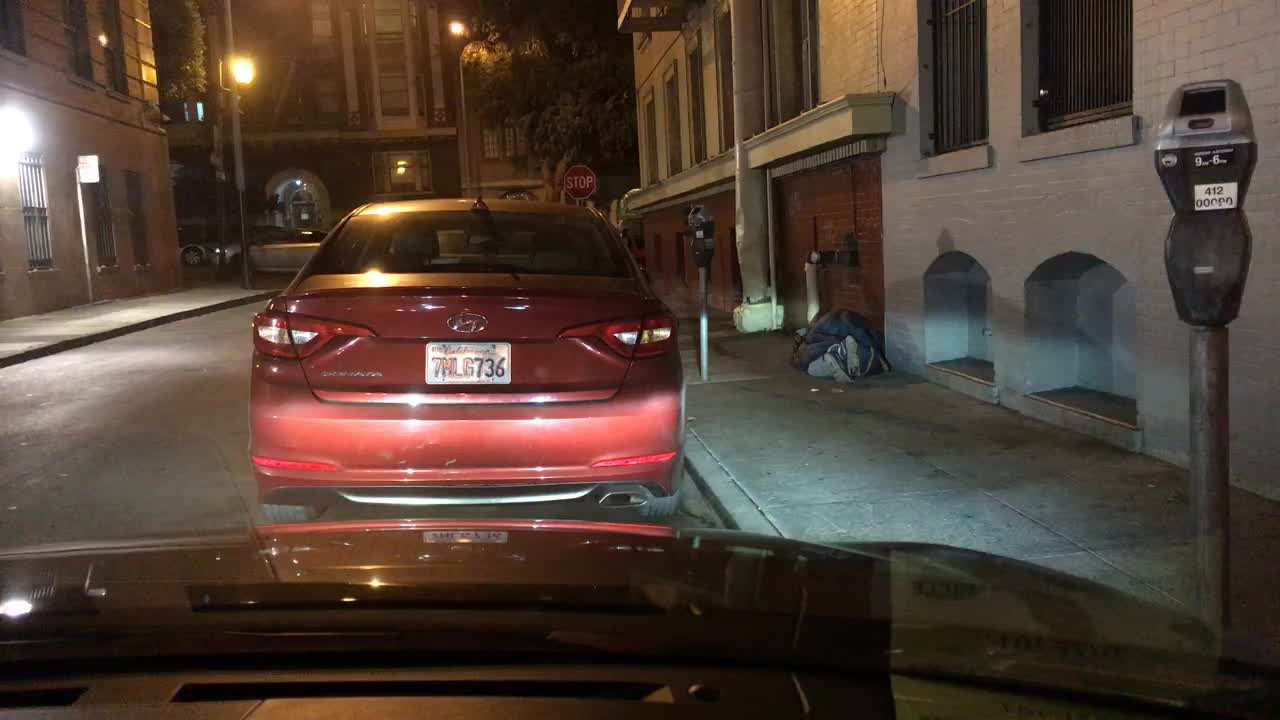car: (250, 190, 694, 564), (238, 226, 335, 279), (176, 230, 245, 269)
traffic sign: (560, 161, 598, 204), (74, 153, 101, 186), (688, 202, 714, 224)
